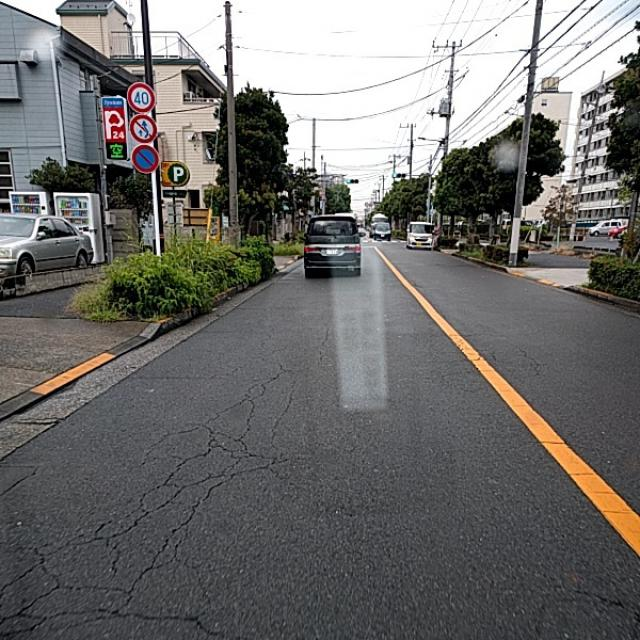pothole: (129, 425, 253, 592)
